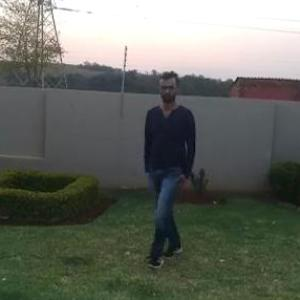follow: (142, 71, 204, 264)
